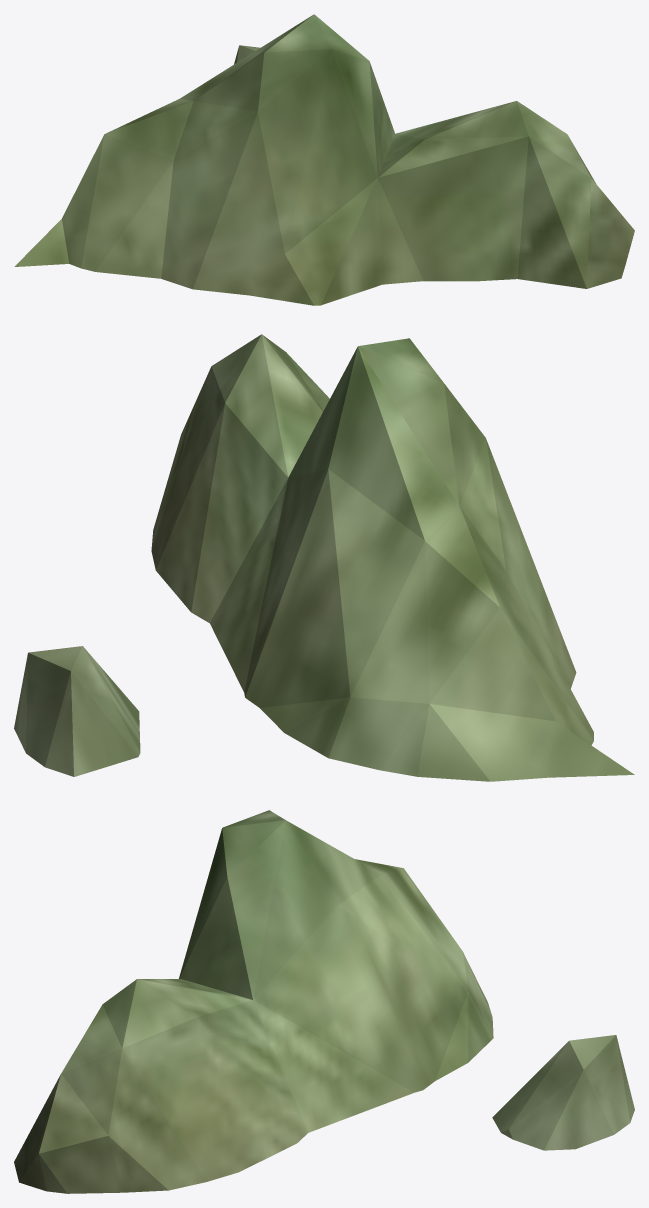
3 renders of one model, top to bottom at view 1: azimuth 30°, elevation 25°; view 2: azimuth 150°, elevation 25°; view 3: azimuth 270°, elevation 25°, orthographic. The views are drawn at different scales.
Bounding box in the file's own units: 0.7941 × 0.3663 × 0.8035.
Materials: 1 (1 with a texture image).
